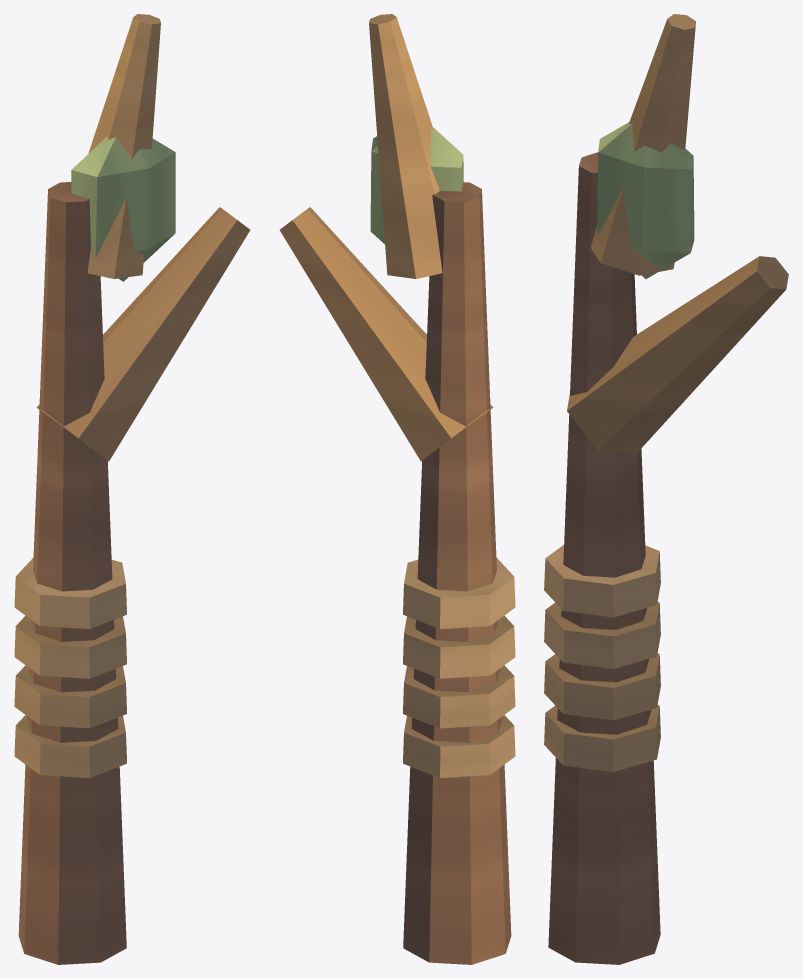
Rendered from gear_staff.glb.
The picture shows the model from 3 angles, left to right: view 1: azimuth 30°, elevation 25°; view 2: azimuth 150°, elevation 25°; view 3: azimuth 330°, elevation 25°; orthographic projection. The views are drawn at different scales.
Parts seen in each view (by area): view 1: staff; view 2: staff; view 3: staff.
Boxes of the visible parts, box(x1,y1,x2,y2) form: staff: box(14, 14, 250, 964); staff: box(279, 14, 515, 964); staff: box(544, 14, 788, 964).
Bounding box in the file's own units: 0.2122 × 0.8223 × 0.0936.
2 materials, 2 textured.
